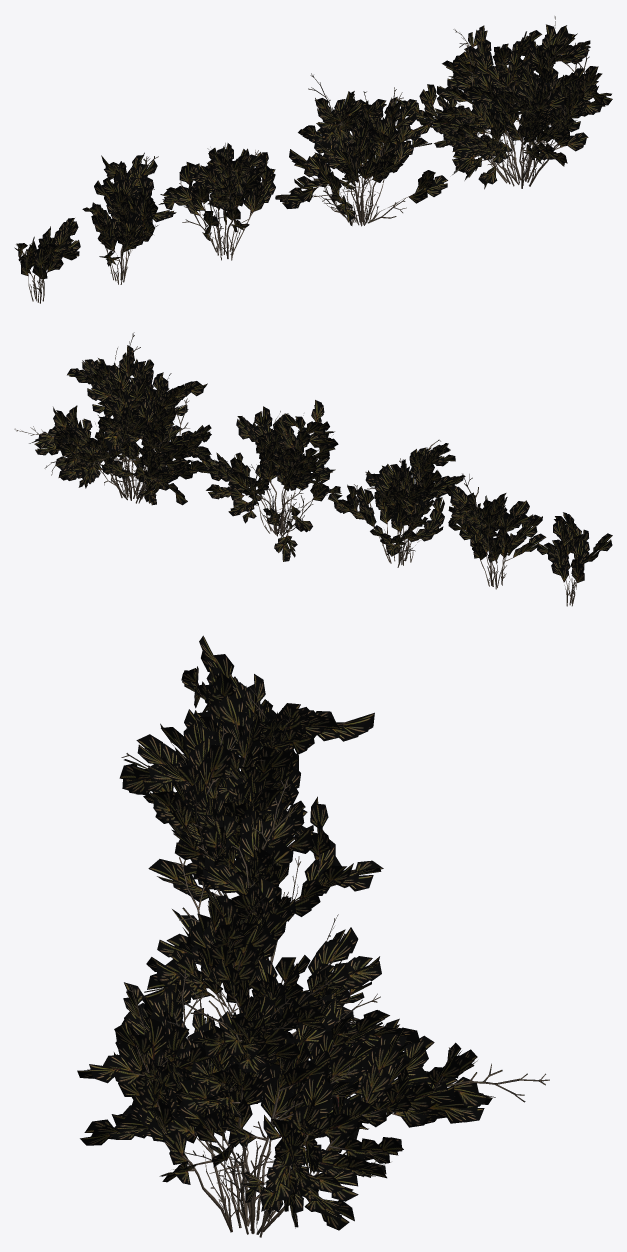
File: wild_rooibos_bush.glb
3 renders of one model, top to bottom at view 1: azimuth 30°, elevation 25°; view 2: azimuth 150°, elevation 25°; view 3: azimuth 270°, elevation 25°, orthographic. The views are drawn at different scales.
Visible parts, largest first — view 1: wild_rooibos_bush_a, wild_rooibos_bush_b, wild_rooibos_bush_c, wild_rooibos_bush_d, wild_rooibos_bush_e; view 2: wild_rooibos_bush_a, wild_rooibos_bush_b, wild_rooibos_bush_c, wild_rooibos_bush_d, wild_rooibos_bush_e; view 3: wild_rooibos_bush_a, wild_rooibos_bush_b, wild_rooibos_bush_c, wild_rooibos_bush_d, wild_rooibos_bush_e.
Part boxes in pixels (bbox=[...]): wild_rooibos_bush_a: bbox=[397, 16, 612, 189]; wild_rooibos_bush_b: bbox=[275, 73, 447, 226]; wild_rooibos_bush_c: bbox=[158, 143, 275, 260]; wild_rooibos_bush_d: bbox=[82, 152, 176, 284]; wild_rooibos_bush_e: bbox=[14, 218, 80, 303]; wild_rooibos_bush_a: bbox=[14, 332, 218, 505]; wild_rooibos_bush_b: bbox=[201, 400, 342, 561]; wild_rooibos_bush_c: bbox=[328, 439, 465, 567]; wild_rooibos_bush_d: bbox=[445, 473, 546, 589]; wild_rooibos_bush_e: bbox=[537, 512, 612, 606]; wild_rooibos_bush_a: bbox=[77, 958, 549, 1237]; wild_rooibos_bush_b: bbox=[138, 778, 381, 1038]; wild_rooibos_bush_c: bbox=[119, 718, 383, 963]; wild_rooibos_bush_d: bbox=[160, 674, 374, 810]; wild_rooibos_bush_e: bbox=[181, 635, 272, 755].
Bounding box in the file's own units: 2.28 × 0.5413 × 0.8434.
Materials: 2 (2 with a texture image).
